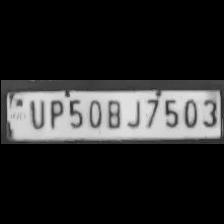0: (84, 97, 103, 129), (180, 96, 198, 128)
3: (199, 96, 219, 128)
5: (63, 96, 83, 130), (159, 97, 179, 129)
7: (140, 97, 160, 129)
B: (104, 96, 122, 130)
J: (123, 96, 141, 130)
P: (43, 98, 62, 130)
U: (24, 98, 46, 130)
